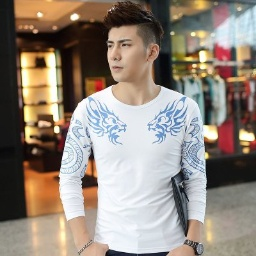face: (102, 1, 166, 80)
